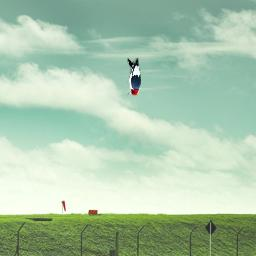Woodpecker: (127, 57, 141, 97)
